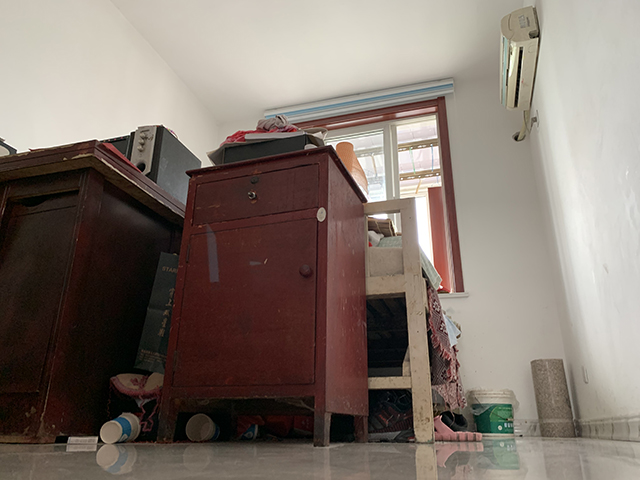cabinet: (153, 144, 373, 447), (1, 139, 186, 447)
slippers: (430, 414, 484, 442)
